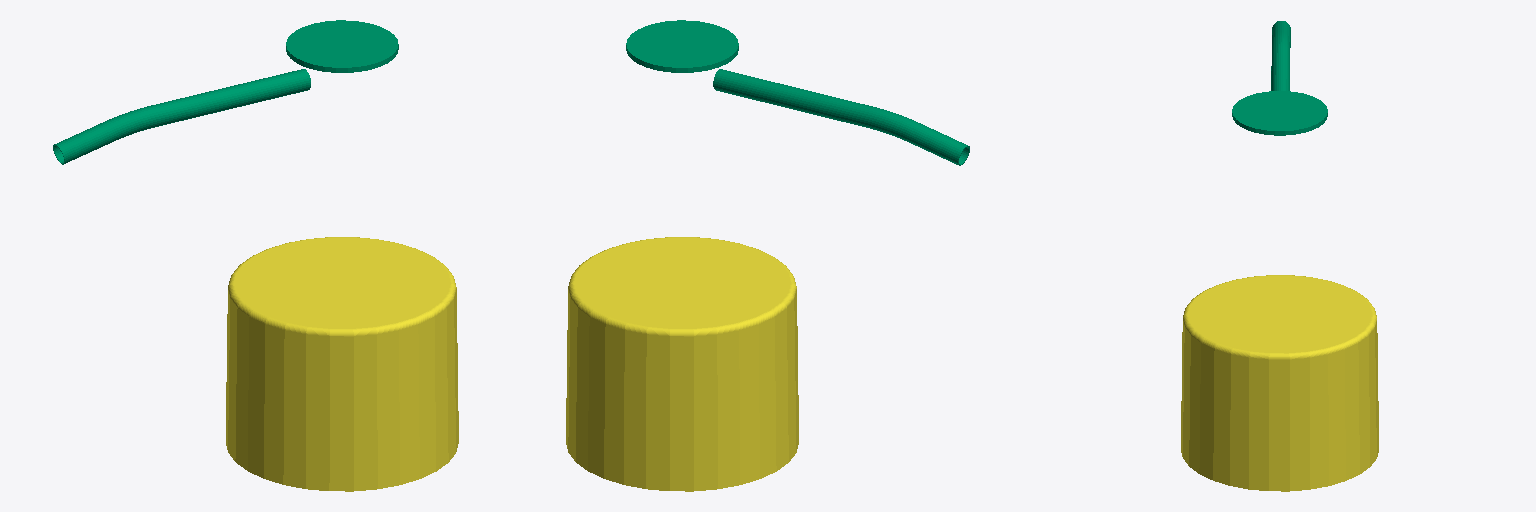
URDF robot description (partnet_a7732257-2737-4c45-aaa2-b2c8a65c5fe8):
<?xml version="1.0" ?>
<robot name="partnet_a7732257-2737-4c45-aaa2-b2c8a65c5fe8">
	<link name="base"/>
	<link name="link_0">
		<visual name="handle-1">
			<origin xyz="-0.05307537776678295 -0.4973957113119832 -0.31956767807669373"/>
			<geometry>
				<mesh filename="textured_objs/original-3.obj" scale="0.2 0.2 0.2"/>
			</geometry>
		</visual>
		<collision>
			<origin xyz="-0.05307537776678295 -0.4973957113119832 -0.31956767807669373"/>
			<geometry>
				<mesh filename="textured_objs/original-3.obj" scale="0.2 0.2 0.2"/>
			</geometry>
		</collision>
	</link>
	<joint name="joint_0" type="revolute">
		<origin xyz="0.05663692670536441 0.4973957113119832 0.37409080481462603"/>
		<axis xyz="0.9998156523539538 -4.897941595025503e-07 -0.019200554882556953"/>
		<child link="link_0"/>
		<parent link="link_1"/>
		<limit lower="-0.0" upper="0.085"/>
	</joint>
	<link name="link_1">
		<visual name="head-3">
			<origin xyz="0.0035615489385814603 0 0.05452312673793228"/>
			<geometry>
				<mesh filename="textured_objs/original-2.obj" scale="0.2 0.2 0.2"/>
			</geometry>
		</visual>
		<visual name="head-3">
			<origin xyz="0.0035615489385814603 0 0.05452312673793228"/>
			<geometry>
				<mesh filename="textured_objs/original-15.obj" scale="0.2 0.2 0.2"/>
			</geometry>
		</visual>
		<visual name="head-3">
			<origin xyz="0.0035615489385814603 0 0.05452312673793228"/>
			<geometry>
				<mesh filename="textured_objs/original-14.obj" scale="0.2 0.2 0.2"/>
			</geometry>
		</visual>
		<visual name="head-3">
			<origin xyz="0.0035615489385814603 0 0.05452312673793228"/>
			<geometry>
				<mesh filename="textured_objs/original-16.obj" scale="0.2 0.2 0.2"/>
			</geometry>
		</visual>
		<visual name="head-3">
			<origin xyz="0.0035615489385814603 0 0.05452312673793228"/>
			<geometry>
				<mesh filename="textured_objs/original-4.obj" scale="0.2 0.2 0.2"/>
			</geometry>
		</visual>
		<visual name="head-3">
			<origin xyz="0.0035615489385814603 0 0.05452312673793228"/>
			<geometry>
				<mesh filename="textured_objs/original-1.obj" scale="0.2 0.2 0.2"/>
			</geometry>
		</visual>
		<visual name="head-3">
			<origin xyz="0.0035615489385814603 0 0.05452312673793228"/>
			<geometry>
				<mesh filename="textured_objs/original-13.obj" scale="0.2 0.2 0.2"/>
			</geometry>
		</visual>
		<visual name="head-3">
			<origin xyz="0.0035615489385814603 0 0.05452312673793228"/>
			<geometry>
				<mesh filename="textured_objs/original-10.obj" scale="0.2 0.2 0.2"/>
			</geometry>
		</visual>
		<visual name="head-3">
			<origin xyz="0.0035615489385814603 0 0.05452312673793228"/>
			<geometry>
				<mesh filename="textured_objs/original-9.obj" scale="0.2 0.2 0.2"/>
			</geometry>
		</visual>
		<visual name="head-3">
			<origin xyz="0.0035615489385814603 0 0.05452312673793228"/>
			<geometry>
				<mesh filename="textured_objs/original-11.obj" scale="0.2 0.2 0.2"/>
			</geometry>
		</visual>
		<visual name="head-3">
			<origin xyz="0.0035615489385814603 0 0.05452312673793228"/>
			<geometry>
				<mesh filename="textured_objs/original-8.obj" scale="0.2 0.2 0.2"/>
			</geometry>
		</visual>
		<visual name="head-3">
			<origin xyz="0.0035615489385814603 0 0.05452312673793228"/>
			<geometry>
				<mesh filename="textured_objs/original-12.obj" scale="0.2 0.2 0.2"/>
			</geometry>
		</visual>
		<collision>
			<origin xyz="0.0035615489385814603 0 0.05452312673793228"/>
			<geometry>
				<mesh filename="textured_objs/original-2.obj" scale="0.2 0.2 0.2"/>
			</geometry>
		</collision>
		<collision>
			<origin xyz="0.0035615489385814603 0 0.05452312673793228"/>
			<geometry>
				<mesh filename="textured_objs/original-15.obj" scale="0.2 0.2 0.2"/>
			</geometry>
		</collision>
		<collision>
			<origin xyz="0.0035615489385814603 0 0.05452312673793228"/>
			<geometry>
				<mesh filename="textured_objs/original-14.obj" scale="0.2 0.2 0.2"/>
			</geometry>
		</collision>
		<collision>
			<origin xyz="0.0035615489385814603 0 0.05452312673793228"/>
			<geometry>
				<mesh filename="textured_objs/original-16.obj" scale="0.2 0.2 0.2"/>
			</geometry>
		</collision>
		<collision>
			<origin xyz="0.0035615489385814603 0 0.05452312673793228"/>
			<geometry>
				<mesh filename="textured_objs/original-4.obj" scale="0.2 0.2 0.2"/>
			</geometry>
		</collision>
		<collision>
			<origin xyz="0.0035615489385814603 0 0.05452312673793228"/>
			<geometry>
				<mesh filename="textured_objs/original-1.obj" scale="0.2 0.2 0.2"/>
			</geometry>
		</collision>
		<collision>
			<origin xyz="0.0035615489385814603 0 0.05452312673793228"/>
			<geometry>
				<mesh filename="textured_objs/original-13.obj" scale="0.2 0.2 0.2"/>
			</geometry>
		</collision>
		<collision>
			<origin xyz="0.0035615489385814603 0 0.05452312673793228"/>
			<geometry>
				<mesh filename="textured_objs/original-10.obj" scale="0.2 0.2 0.2"/>
			</geometry>
		</collision>
		<collision>
			<origin xyz="0.0035615489385814603 0 0.05452312673793228"/>
			<geometry>
				<mesh filename="textured_objs/original-9.obj" scale="0.2 0.2 0.2"/>
			</geometry>
		</collision>
		<collision>
			<origin xyz="0.0035615489385814603 0 0.05452312673793228"/>
			<geometry>
				<mesh filename="textured_objs/original-11.obj" scale="0.2 0.2 0.2"/>
			</geometry>
		</collision>
		<collision>
			<origin xyz="0.0035615489385814603 0 0.05452312673793228"/>
			<geometry>
				<mesh filename="textured_objs/original-8.obj" scale="0.2 0.2 0.2"/>
			</geometry>
		</collision>
		<collision>
			<origin xyz="0.0035615489385814603 0 0.05452312673793228"/>
			<geometry>
				<mesh filename="textured_objs/original-12.obj" scale="0.2 0.2 0.2"/>
			</geometry>
		</collision>
	</link>
	<joint name="joint_1" type="fixed">
		<origin xyz="0.0 0 0.0"/>
		<axis xyz="0 -1 0"/>
		<child link="link_1"/>
		<parent link="link_1_helper"/>
	</joint>
	<link name="link_2">
		<visual name="base_body-4">
			<origin xyz="0 0 0"/>
			<geometry>
				<mesh filename="textured_objs/original-5.obj" scale="0.2 0.2 0.2"/>
			</geometry>
		</visual>
		<visual name="base_body-4">
			<origin xyz="0 0 0"/>
			<geometry>
				<mesh filename="textured_objs/original-6.obj" scale="0.2 0.2 0.2"/>
			</geometry>
		</visual>
		<visual name="base_body-4">
			<origin xyz="0 0 0"/>
			<geometry>
				<mesh filename="textured_objs/original-7.obj" scale="0.2 0.2 0.2"/>
			</geometry>
		</visual>
		<collision>
			<origin xyz="0 0 0"/>
			<geometry>
				<mesh filename="textured_objs/original-5.obj" scale="0.2 0.2 0.2"/>
			</geometry>
		</collision>
		<collision>
			<origin xyz="0 0 0"/>
			<geometry>
				<mesh filename="textured_objs/original-6.obj" scale="0.2 0.2 0.2"/>
			</geometry>
		</collision>
		<collision>
			<origin xyz="0 0 0"/>
			<geometry>
				<mesh filename="textured_objs/original-7.obj" scale="0.2 0.2 0.2"/>
			</geometry>
		</collision>
	</link>
	<joint name="joint_2" type="fixed">
		<origin rpy="1.570796326794897 0 -1.570796326794897" xyz="0 0 0"/>
		<child link="link_2"/>
		<parent link="base"/>
	</joint>
	<link name="link_1_helper"/>
	<joint name="joint_3" type="fixed">
		<origin xyz="-0.0035615489385814603 0 -0.05452312673793228"/>
		<axis xyz="0 1 0"/>
		<child link="link_1_helper"/>
		<parent link="link_2"/>
		<limit lower="0" upper="0.15"/>
	</joint>
</robot>

--- Render facts (derived) ---
3 views of the same robot in one strip: view 1: azimuth 30°, elevation 25°; view 2: azimuth 150°, elevation 25°; view 3: azimuth 270°, elevation 25° (orthographic).
Model partnet_a7732257-2737-4c45-aaa2-b2c8a65c5fe8 with 5 links and 4 joints (1 revolute, 3 fixed), rooted at base, posed every joint at zero.
Links seen in each view (by area): view 1: link_2, link_1; view 2: link_2, link_1; view 3: link_2, link_1.
Boxes of the visible links, x1=… form: link_2: x1=226, y1=237, x2=458, y2=491; link_1: x1=53, y1=20, x2=398, y2=164; link_2: x1=566, y1=237, x2=798, y2=491; link_1: x1=626, y1=20, x2=969, y2=165; link_2: x1=1181, y1=275, x2=1378, y2=491; link_1: x1=1232, y1=21, x2=1327, y2=135.
Bounding box of the posed robot: 0.1142 × 0.0599 × 0.1128 m (x, y, z).
Meshes: 16 distinct files referenced, 8 mesh visuals loaded (8 OBJ); not drawn: 8 (reference not matched to a file when rendering).